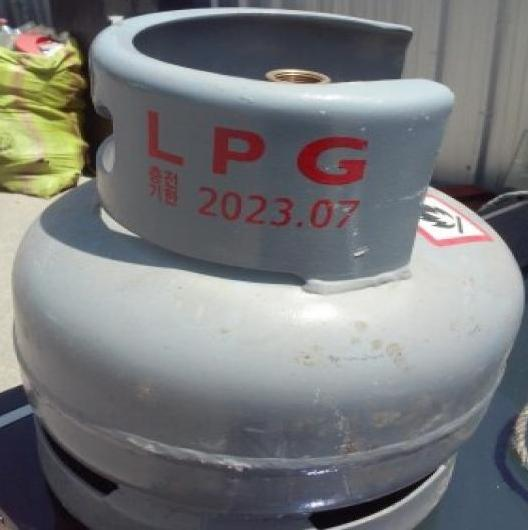cylinder: (1, 1, 528, 530)
